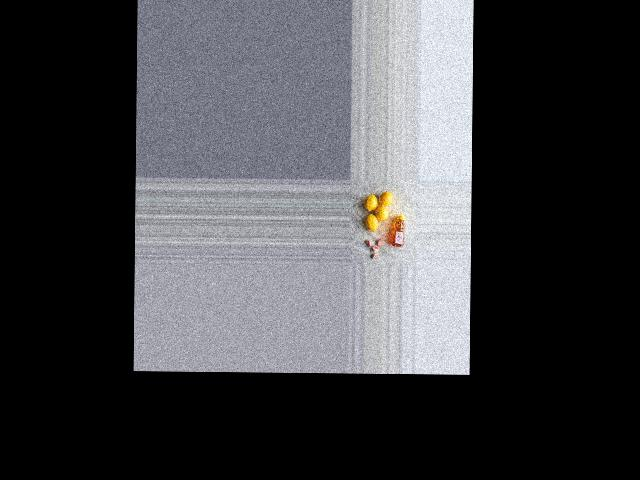lemon: (362, 212, 381, 232)
